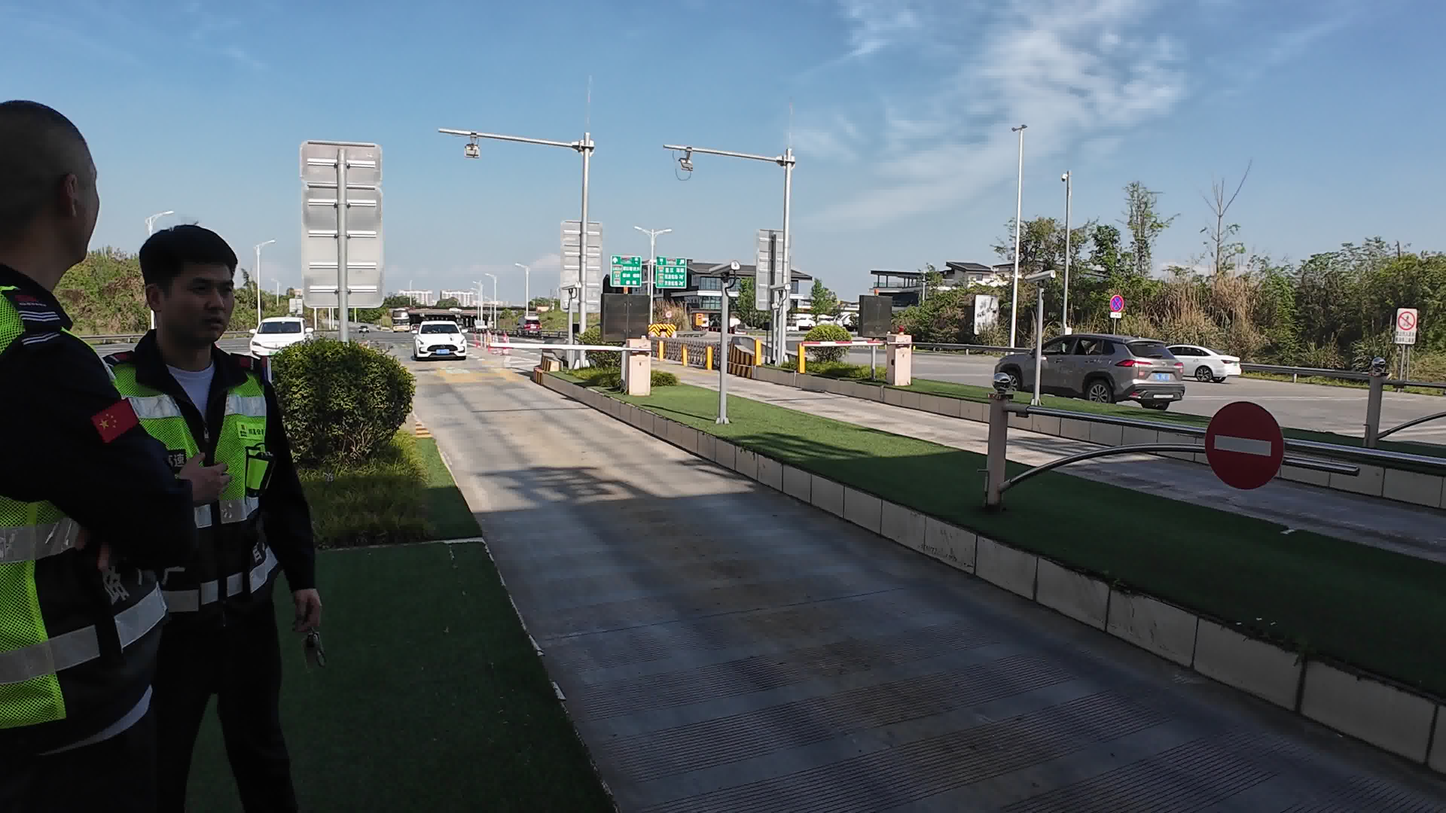lane_sign: (657, 248, 690, 285), (613, 251, 644, 289)
roadside_plant: (886, 227, 1445, 341), (281, 344, 418, 471)
warning_sign: (296, 128, 382, 296), (1188, 386, 1297, 502), (482, 329, 625, 358), (754, 222, 797, 308), (560, 227, 598, 304), (797, 328, 896, 351), (1393, 306, 1424, 351), (1101, 295, 1131, 317)
